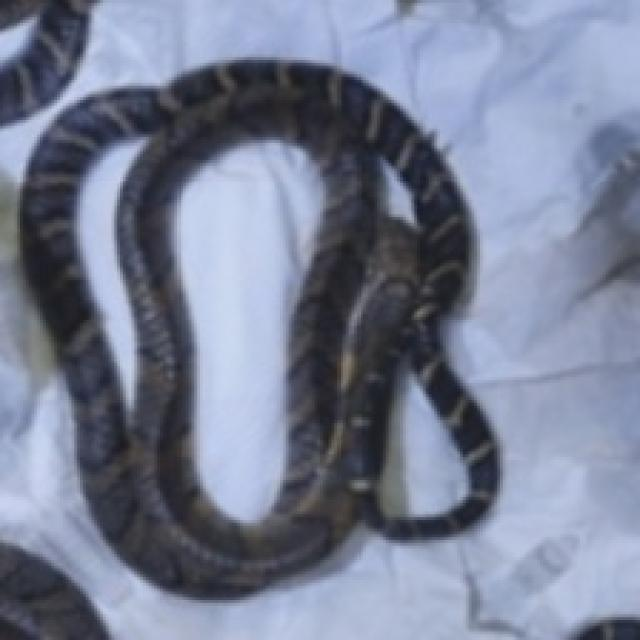king cobra: (20, 60, 497, 594), (0, 0, 89, 120)
